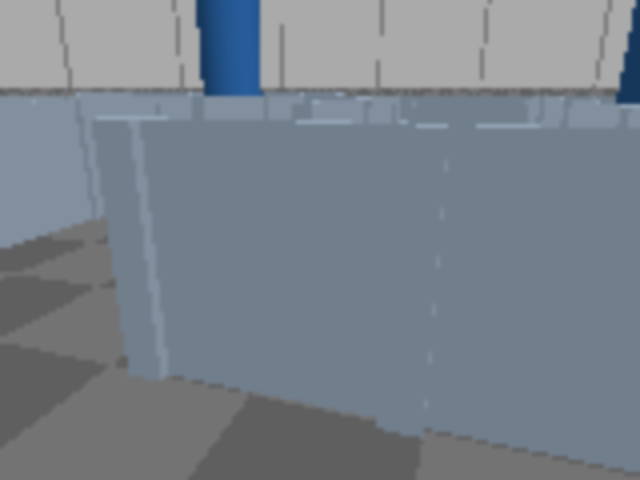person: (601, 0, 638, 203)
